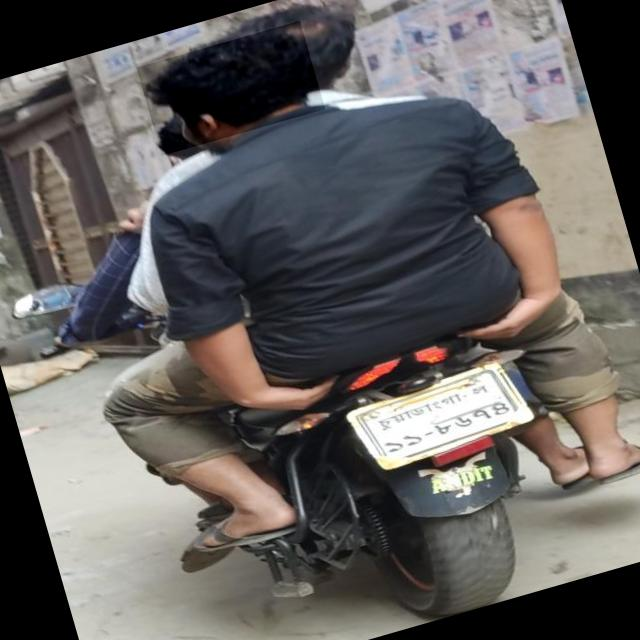without helmet: (136, 20, 325, 155)
